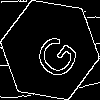G: (25, 25, 82, 84)
